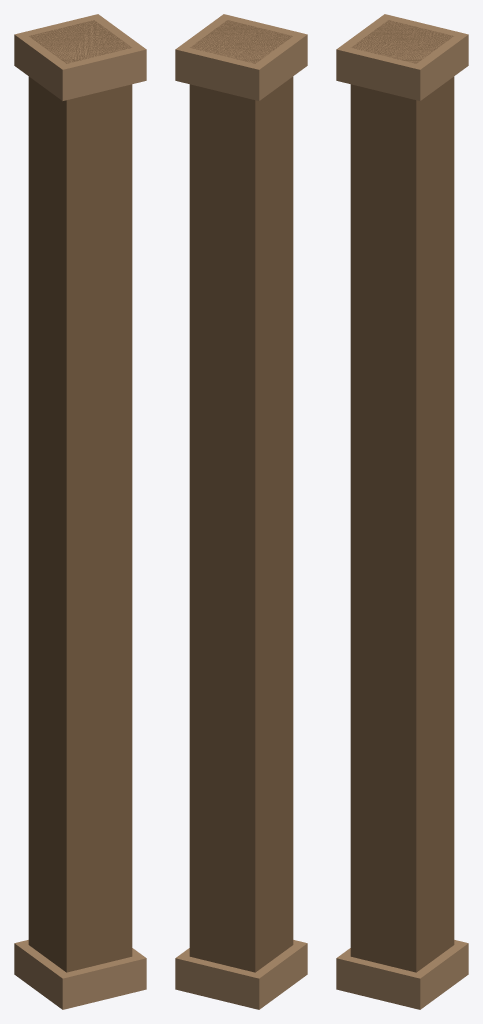
File: SM_Wall_Corner_Post.glb
3 views of the same model, side by side, from view 1: azimuth 30°, elevation 25°; view 2: azimuth 150°, elevation 25°; view 3: azimuth 330°, elevation 25° (orthographic).
Parts seen in each view (by area): view 1: SM_Wall_Corner_Post; view 2: SM_Wall_Corner_Post; view 3: SM_Wall_Corner_Post.
Part boxes in pixels (bbox=[...]): SM_Wall_Corner_Post: bbox=[14, 14, 146, 1009]; SM_Wall_Corner_Post: bbox=[175, 14, 307, 1009]; SM_Wall_Corner_Post: bbox=[336, 14, 468, 1009].
Bounding box in the file's own units: 0.28 × 3 × 0.28.
